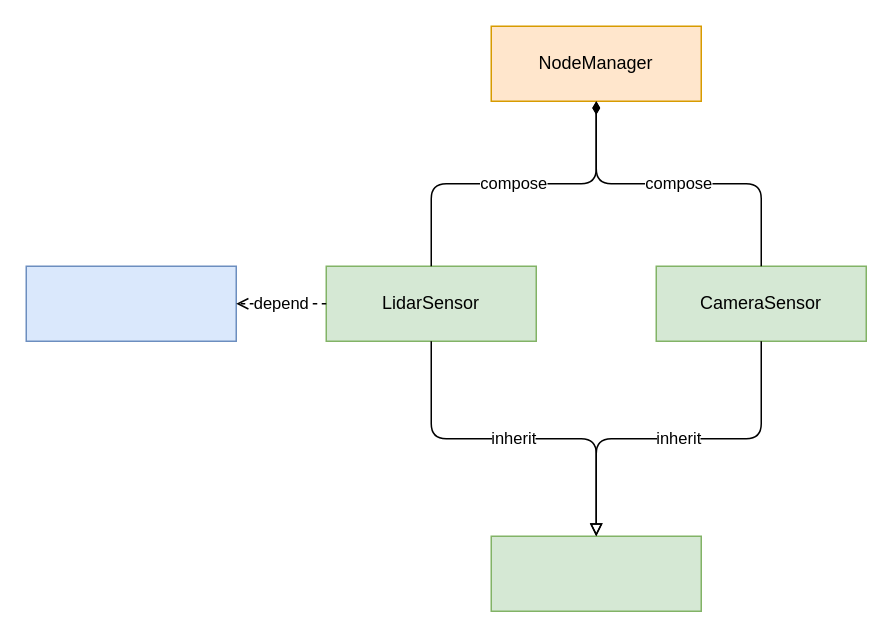
This 893x638 diagram has some shape labels left out. Here are the shapes that lost their labels. From the top down, the centre of each, then its label:
At (130,303): "Config".
At (595,573): "SensorBase".
